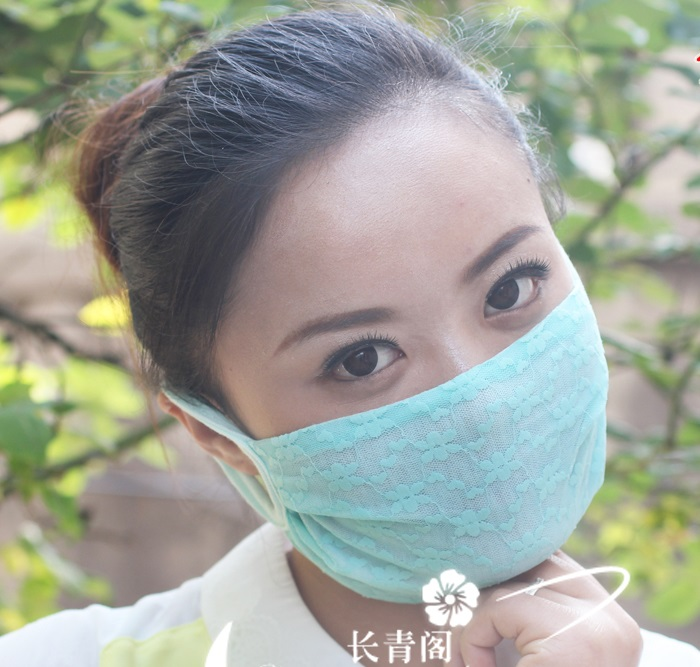face_mask: (246, 132, 609, 610)
